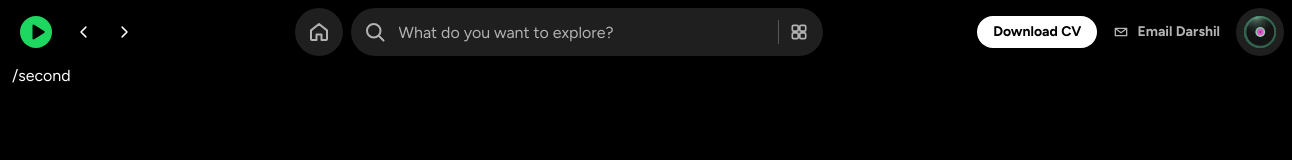
editorial motion foundation › keeps the global top bar's history controls wired to real router navigation
The image size is (1292, 160).
Click the button named "Go back" at (84, 32), box [68,16,100,48]
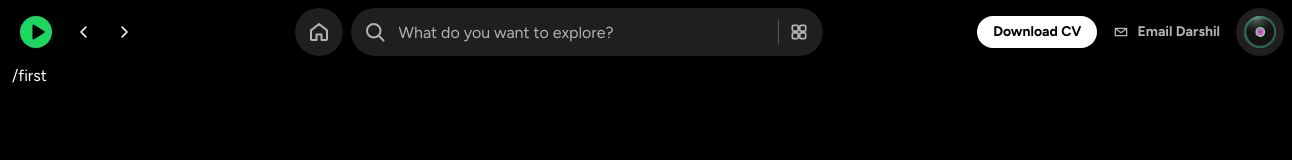
Check: the text "/first" is shown, box [12,66,47,85]
Click the button named "Go forward" at (124, 32), box [108,16,140,48]
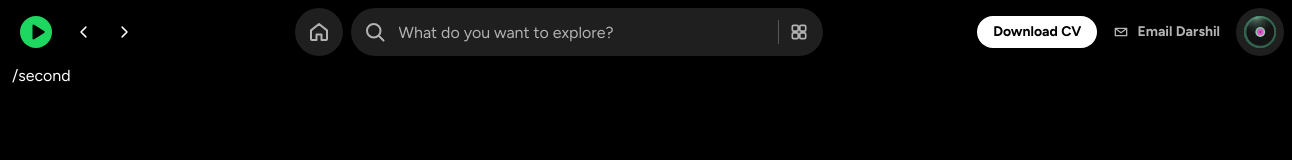
Check: the text "/second" is shown, box [12,66,71,85]
